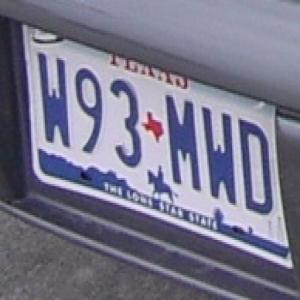Plate: (10, 12, 298, 288)
